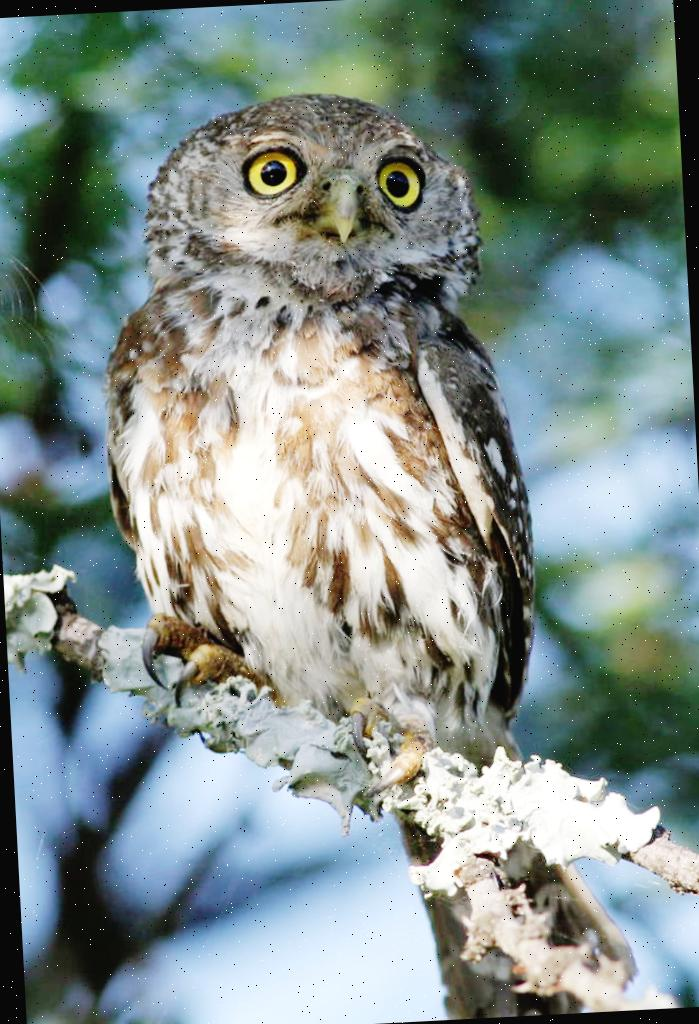Owl: (81, 78, 554, 821)
